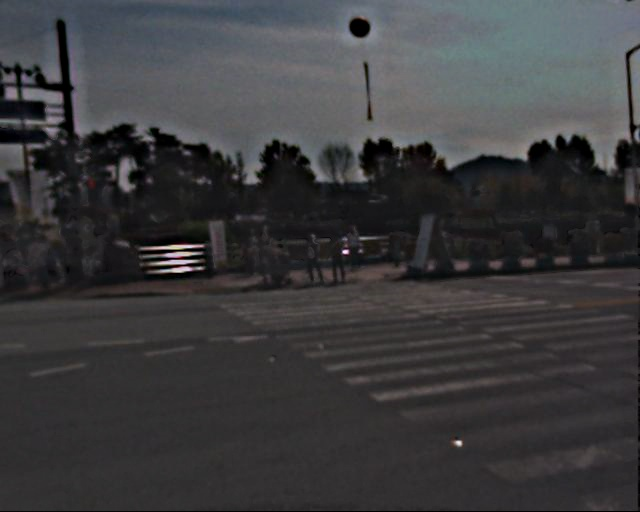person: (4, 213, 41, 298), (30, 224, 74, 295), (65, 220, 99, 292), (254, 223, 280, 286), (302, 230, 325, 287), (332, 228, 355, 284), (243, 226, 266, 281), (346, 221, 368, 275)
